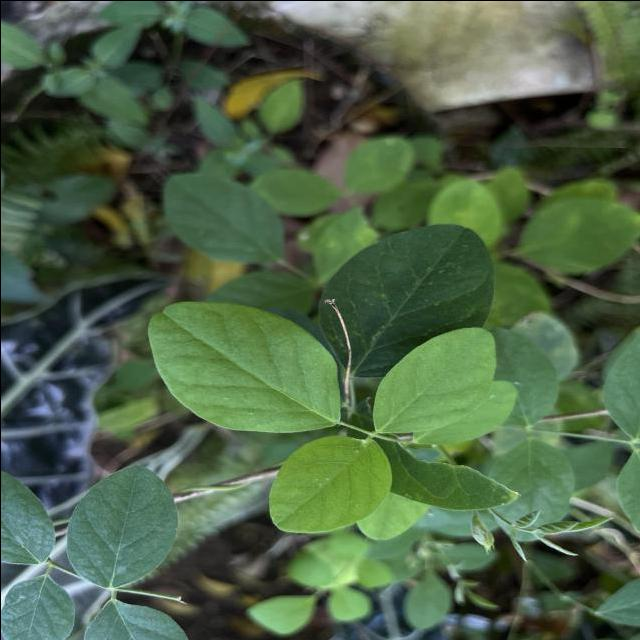Clitoria ternatea: (145, 300, 341, 434), (65, 462, 179, 588), (371, 324, 496, 434), (268, 434, 392, 534)
